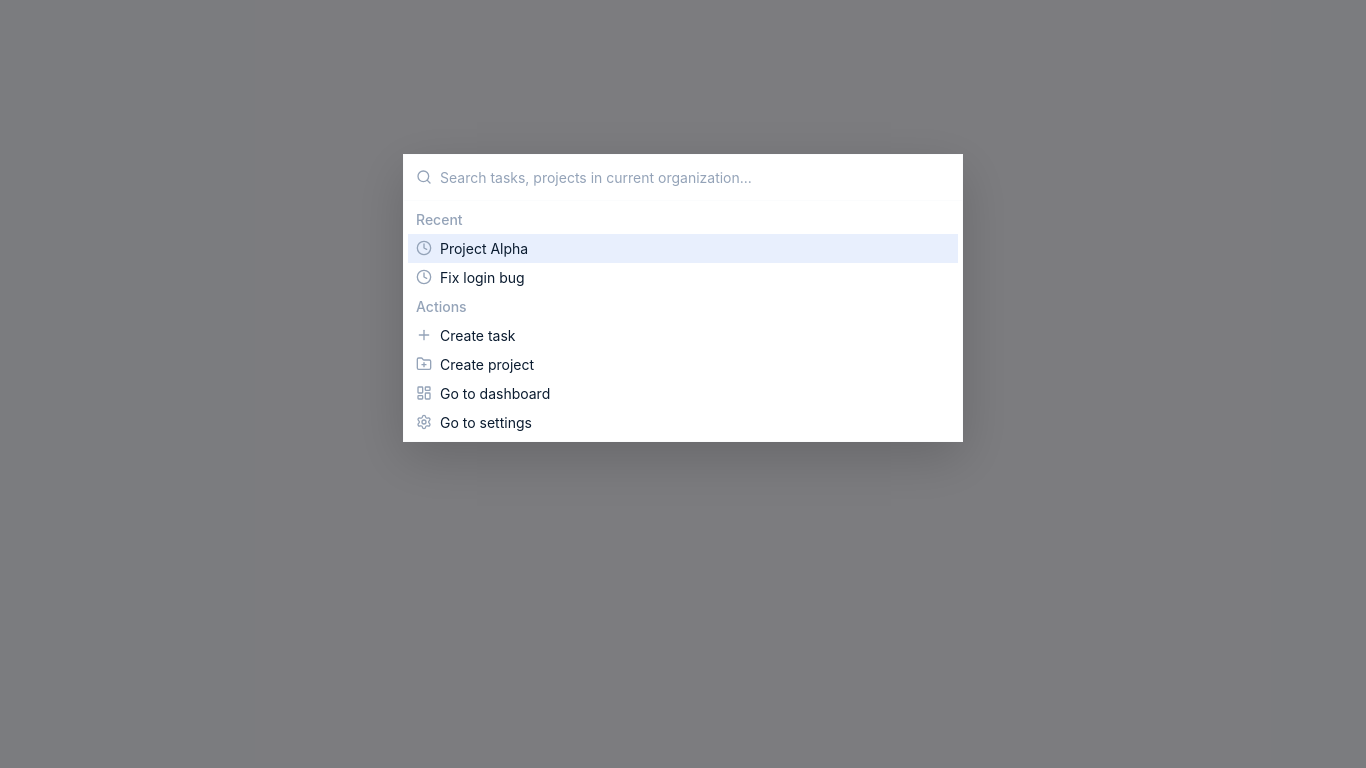
Scenario: CommandPalette search results › hides Recent group when query is active
Expected: the text "Recent" is shown, [416, 211, 463, 228]
Type "api" into the dropdown at (695, 177), box [440, 155, 950, 200]
Wait 200 ms
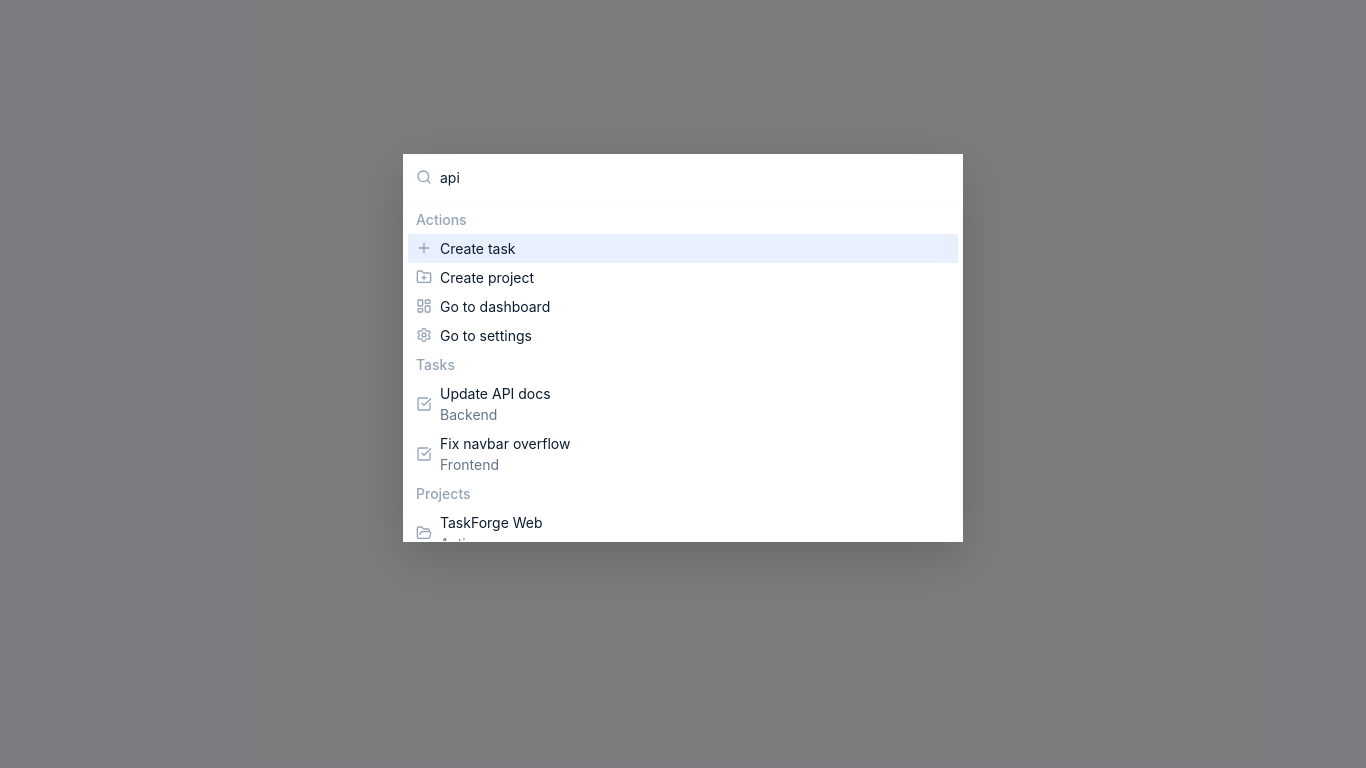
Expected: the text "Recent" is gone
